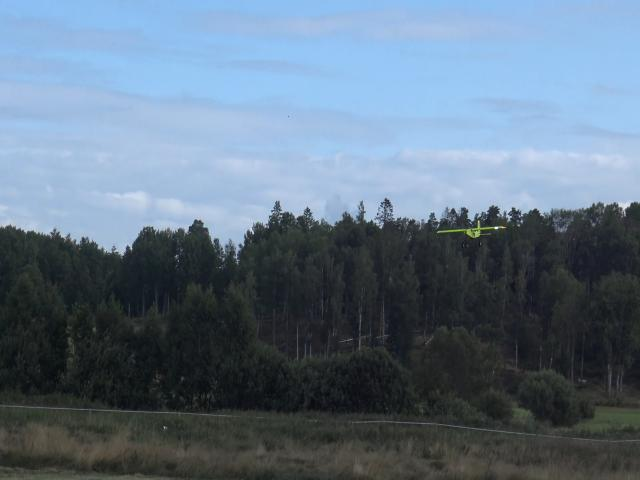plane: (436, 219, 506, 249)
